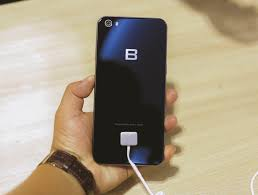bphone: (90, 14, 167, 168)
